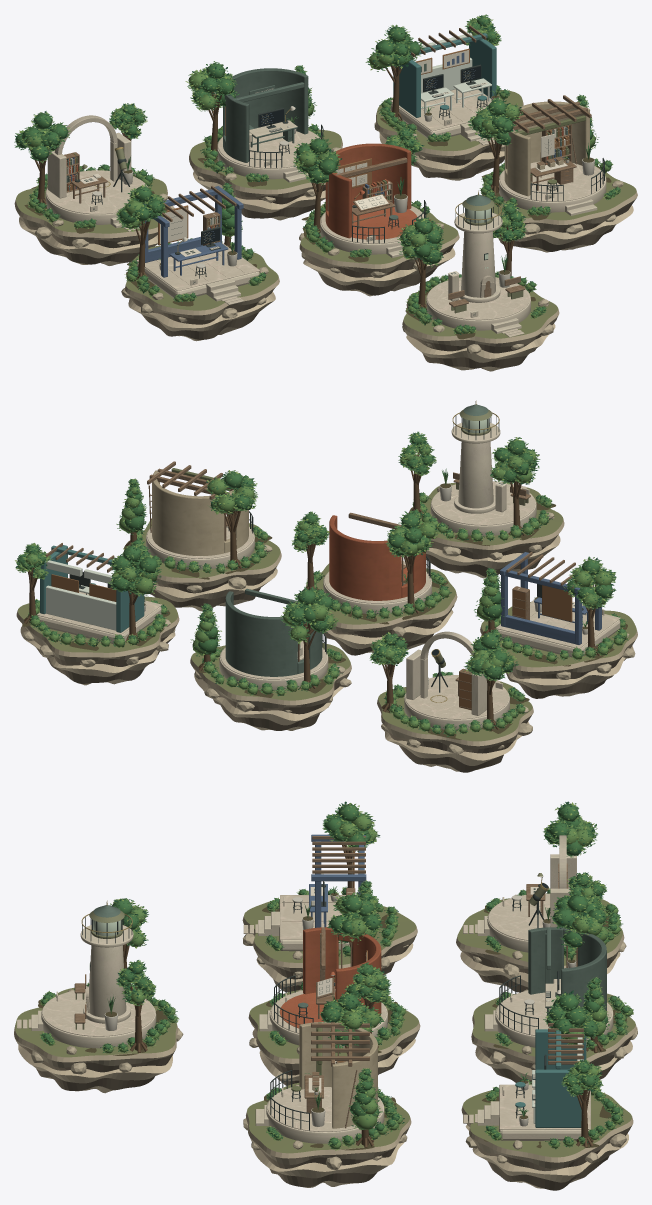
The model's file is archipelago-v7.glb.
3 renders of one model, top to bottom at view 1: azimuth 30°, elevation 25°; view 2: azimuth 150°, elevation 25°; view 3: azimuth 270°, elevation 25°, orthographic. The views are drawn at different scales.
Parts seen in each view (by area): view 1: pavilion_evoluir, pavilion_especificar, pavilion_gerar, pavilion_validar, pavilion_comparar, pavilion_perspectivas, pavilion_pesquisa, island_perspectivas_foundation, island_validar_foundation, island_pesquisa_foundation, island_especificar_foundation, island_evoluir_foundation (+21 smaller); view 2: pavilion_evoluir, pavilion_perspectivas, pavilion_comparar, pavilion_validar, pavilion_especificar, pavilion_gerar, pavilion_pesquisa, island_pesquisa_foundation, island_comparar_foundation, island_gerar_foundation, island_validar_foundation, island_perspectivas_foundation (+23 smaller); view 3: pavilion_evoluir, pavilion_perspectivas, pavilion_comparar, pavilion_gerar, island_comparar_foundation, pavilion_especificar, island_perspectivas_foundation, island_evoluir_foundation, pavilion_validar, pavilion_pesquisa, island_gerar_foundation, island_validar_foundation (+22 smaller).
Part boxes in pixels (x1=…): pavilion_evoluir: x1=499, y1=95, x2=606, y2=215; pavilion_especificar: x1=320, y1=143, x2=426, y2=257; pavilion_gerar: x1=217, y1=68, x2=323, y2=182; pavilion_validar: x1=136, y1=186, x2=259, y2=304; pavilion_comparar: x1=390, y1=25, x2=501, y2=145; pavilion_perspectivas: x1=426, y1=190, x2=530, y2=337; pavilion_pesquisa: x1=45, y1=115, x2=147, y2=231; island_perspectivas_foundation: x1=402, y1=286, x2=559, y2=371; island_validar_foundation: x1=121, y1=245, x2=279, y2=341; island_pesquisa_foundation: x1=14, y1=176, x2=174, y2=265; island_especificar_foundation: x1=299, y1=205, x2=459, y2=296; island_evoluir_foundation: x1=481, y1=168, x2=637, y2=252; pavilion_evoluir: x1=146, y1=461, x2=254, y2=569; pavilion_perspectivas: x1=430, y1=400, x2=536, y2=536; pavilion_comparar: x1=37, y1=543, x2=161, y2=644; pavilion_validar: x1=495, y1=552, x2=620, y2=657; pavilion_especificar: x1=323, y1=512, x2=431, y2=614; pavilion_gerar: x1=219, y1=588, x2=328, y2=690; pavilion_pesquisa: x1=404, y1=631, x2=509, y2=729; island_pesquisa_foundation: x1=377, y1=680, x2=533, y2=772; island_comparar_foundation: x1=16, y1=596, x2=179, y2=685; island_gerar_foundation: x1=190, y1=643, x2=351, y2=730; island_validar_foundation: x1=480, y1=602, x2=637, y2=698; island_perspectivas_foundation: x1=418, y1=481, x2=564, y2=578; pavilion_evoluir: x1=255, y1=1022, x2=384, y2=1143; pavilion_perspectivas: x1=17, y1=900, x2=156, y2=1048; pavilion_comparar: x1=463, y1=1023, x2=590, y2=1140; pavilion_gerar: x1=484, y1=927, x2=613, y2=1047; island_comparar_foundation: x1=461, y1=1090, x2=633, y2=1190; pavilion_especificar: x1=259, y1=927, x2=387, y2=1047; island_perspectivas_foundation: x1=14, y1=987, x2=183, y2=1093; island_evoluir_foundation: x1=243, y1=1083, x2=411, y2=1187; pavilion_validar: x1=243, y1=834, x2=366, y2=951; pavilion_pesquisa: x1=463, y1=835, x2=576, y2=952; island_gerar_foundation: x1=471, y1=993, x2=637, y2=1084; island_validar_foundation: x1=242, y1=901, x2=417, y2=992.
Bounding box in the file's own units: 26.95 × 8.75 × 26.71.
35 materials, 8 textured.
